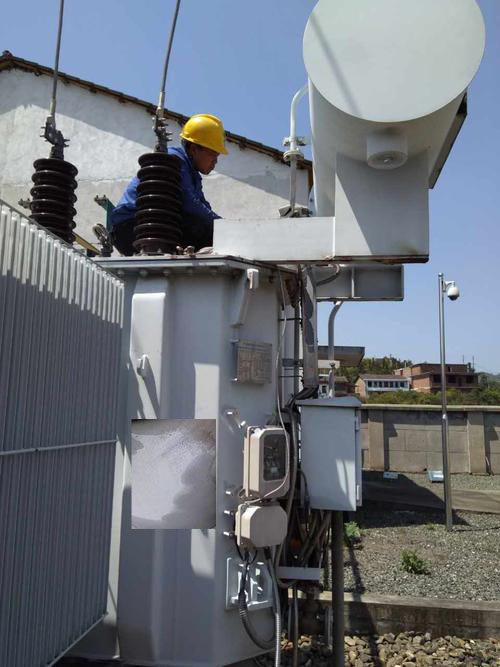oil: (133, 424, 216, 530)
